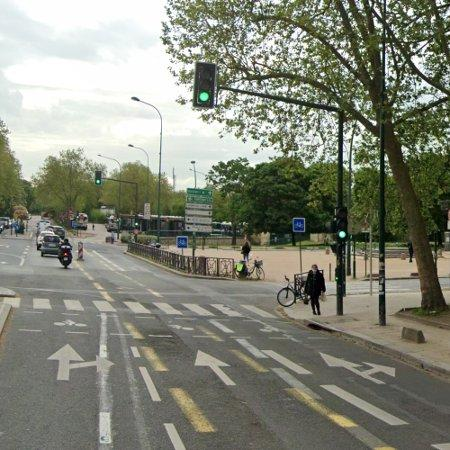crosswalks: (5, 298, 278, 317)
